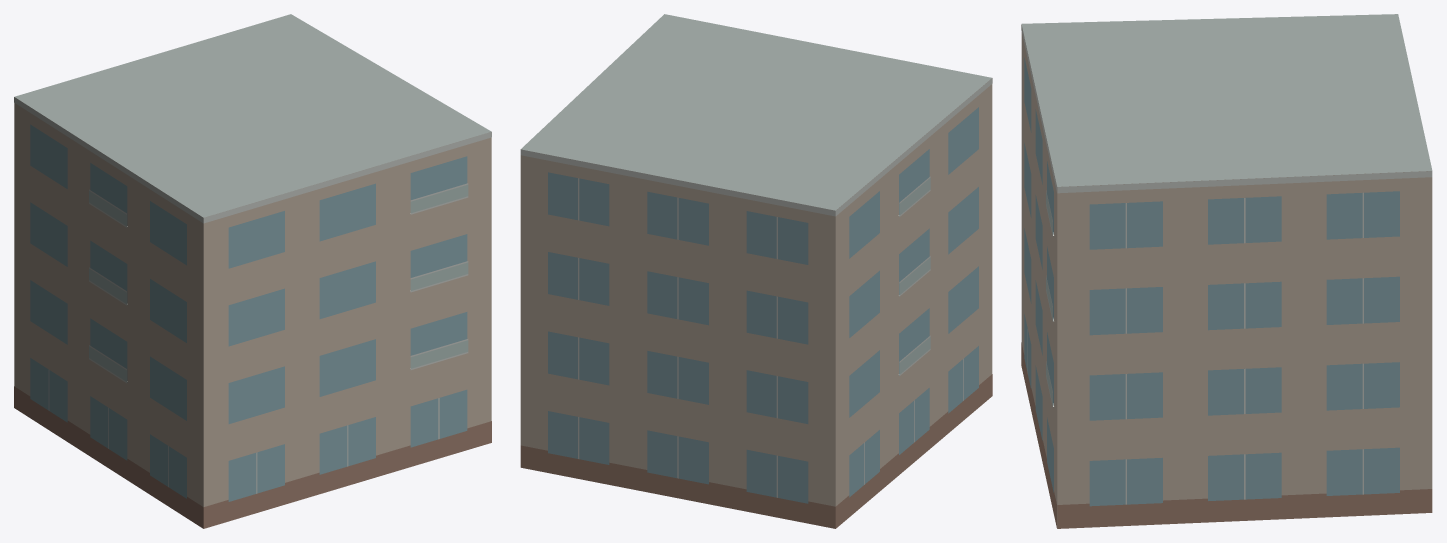
The model's file is survey-upis-32929777.glb.
The picture shows the model from 3 angles, left to right: view 1: azimuth 30°, elevation 25°; view 2: azimuth 150°, elevation 25°; view 3: azimuth 270°, elevation 25°; orthographic projection. The views are drawn at different scales.
Parts seen in each view (by area): view 1: survey-upis-32929777.tmp; view 2: survey-upis-32929777.tmp; view 3: survey-upis-32929777.tmp.
Boxes of the visible parts, box(x1,y1,x2,y2) form: survey-upis-32929777.tmp: box(14, 14, 491, 528); survey-upis-32929777.tmp: box(520, 14, 992, 528); survey-upis-32929777.tmp: box(1021, 14, 1432, 528).
Bounding box in the file's own units: 14.33 × 13.2 × 14.39.
